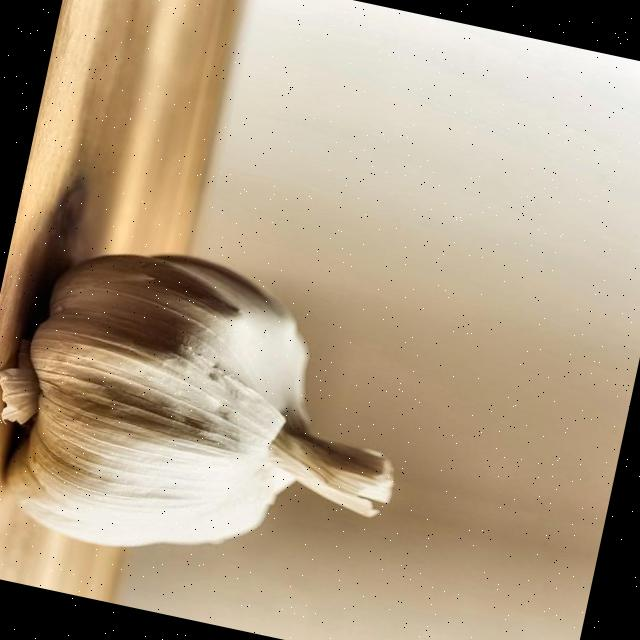garlic: (0, 254, 393, 546)
